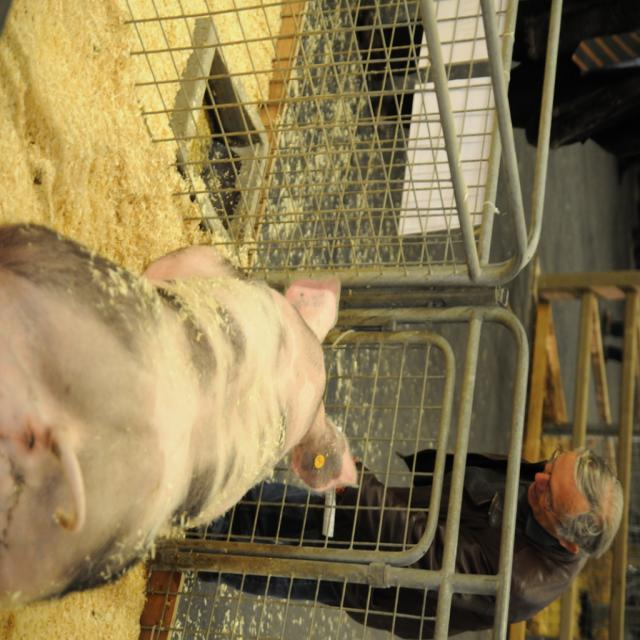Pig: (0, 225, 359, 604)
